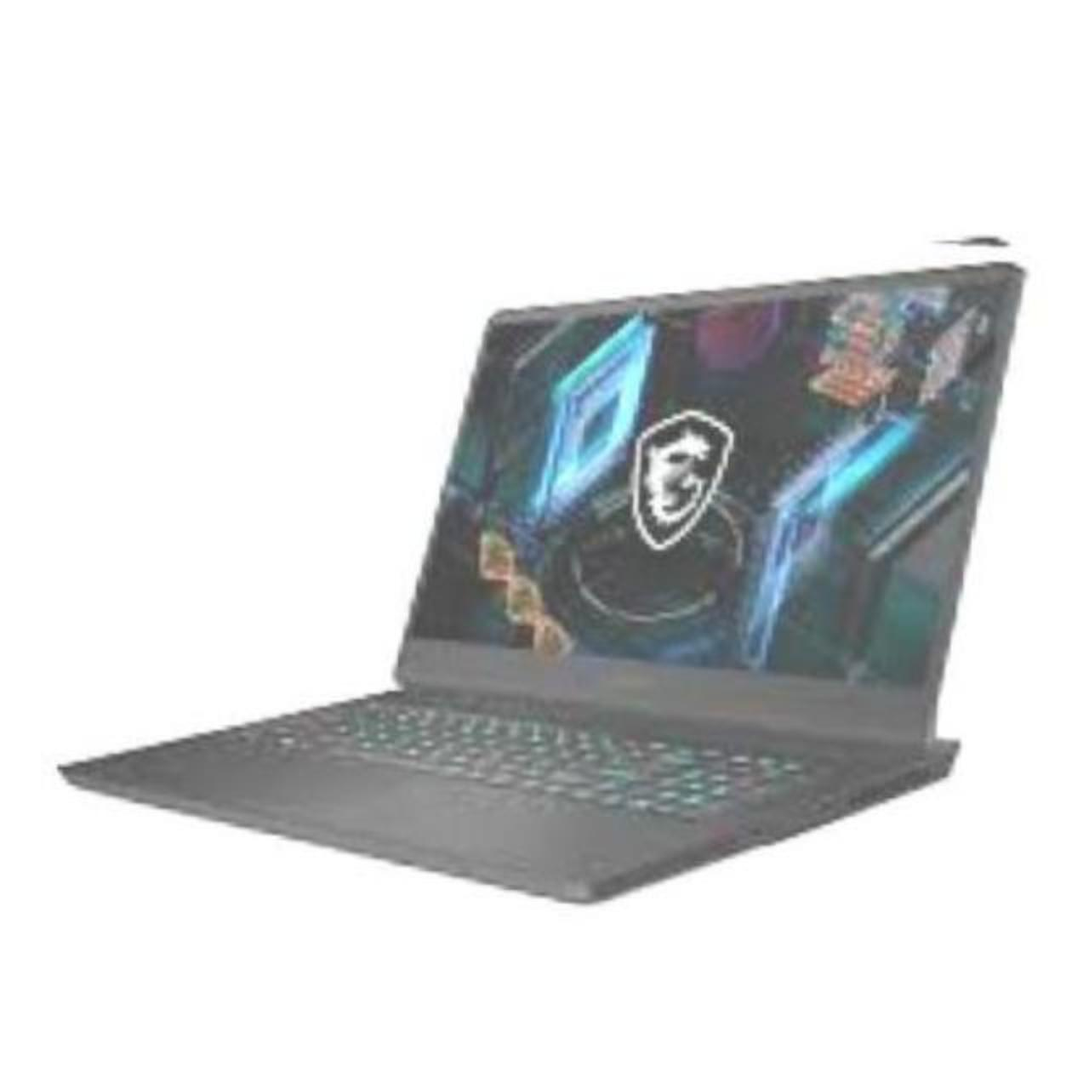laptop: (17, 210, 1021, 947)
